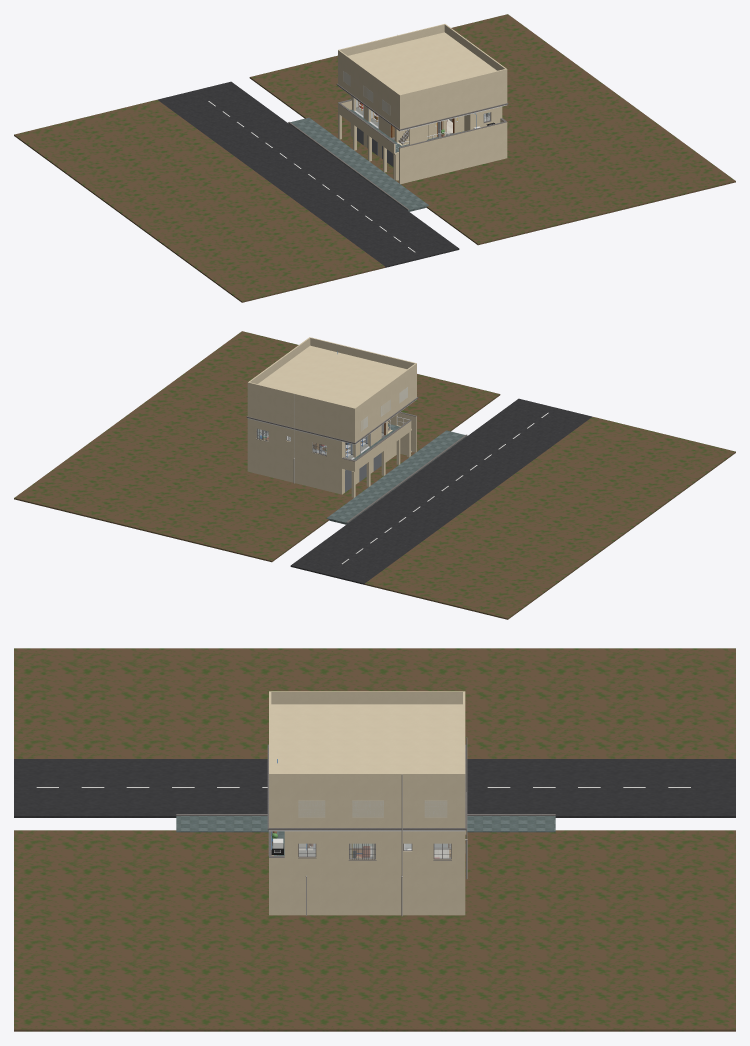
The picture shows the model from 3 angles, top to bottom: view 1: azimuth 30°, elevation 25°; view 2: azimuth 150°, elevation 25°; view 3: azimuth 270°, elevation 25°; orthographic projection. The views are drawn at different scales.
Parts seen in each view (by area): view 1: SITE__ground, SITE__asphalt, UPPER__paint_ext, WALL__paint_ext, SITE__kota, SITE__paint_ext; view 2: SITE__ground, SITE__asphalt, UPPER__paint_ext, WALL__paint_ext, SITE__paint_ext, SITE__kota; view 3: SITE__ground, SITE__asphalt, UPPER__paint_ext, SITE__paint_ext, WALL__paint_ext, SITE__kota, UPPER__glass, UPPER__granite, GLASS__glass.
Boxes of the visible parts, x1,y1,x2,y2 form: SITE__ground: (14,14,735,302); SITE__asphalt: (157,81,459,267); UPPER__paint_ext: (338,24,507,129); WALL__paint_ext: (338,96,507,184); SITE__kota: (289,117,428,211); SITE__paint_ext: (338,112,507,179); SITE__ground: (14,331,735,619); SITE__asphalt: (290,398,592,584); UPPER__paint_ext: (247,337,416,442); WALL__paint_ext: (247,412,416,470); SITE__paint_ext: (247,425,411,497); SITE__kota: (326,430,466,524); SITE__ground: (14,648,735,1031); SITE__asphalt: (14,759,735,817); UPPER__paint_ext: (269,691,465,827); SITE__paint_ext: (269,830,466,915); WALL__paint_ext: (269,831,465,872); SITE__kota: (176,816,555,832); UPPER__glass: (298,801,446,816); UPPER__granite: (267,744,466,830); GLASS__glass: (299,844,450,858).
Size of the model in its own units: 60.96 by 10.67 by 48.77.
64 materials, 28 textured.
